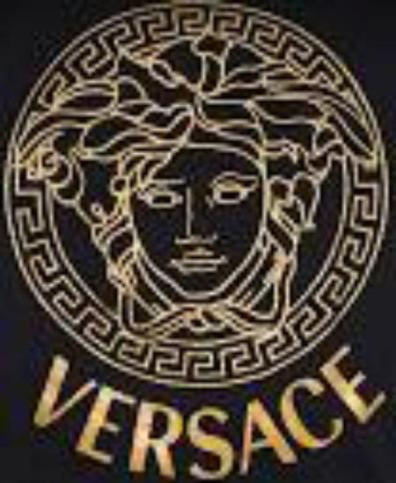VERSACE: (5, 5, 393, 482)
